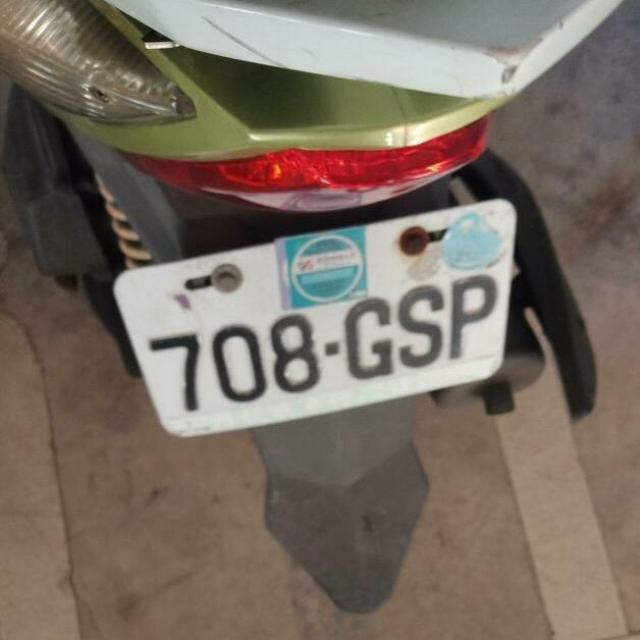W: (97, 176, 537, 468)
